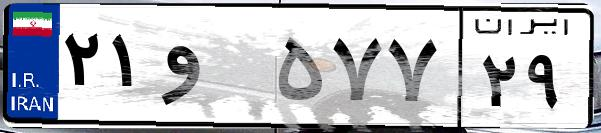1: (110, 28, 158, 98)
2: (57, 26, 110, 100), (475, 38, 525, 113)
5: (270, 28, 330, 110)
7: (385, 28, 445, 110), (330, 28, 385, 110)
9: (525, 38, 570, 115)
و: (158, 20, 270, 120)
